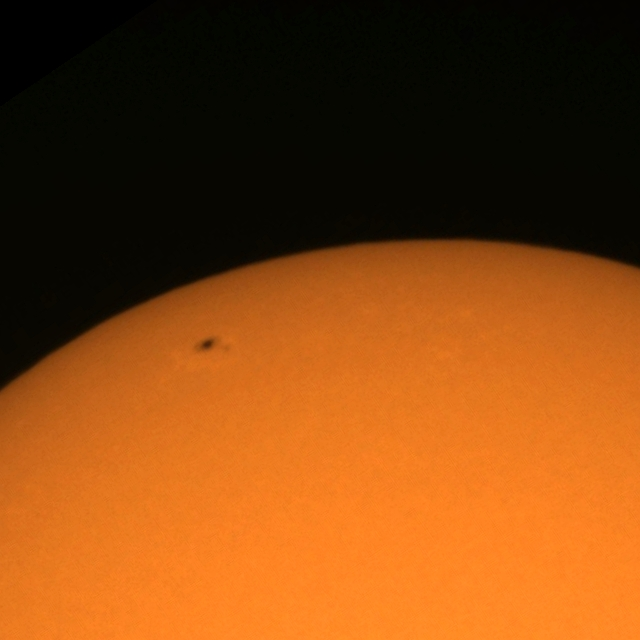sunspot: (191, 335, 231, 357)
